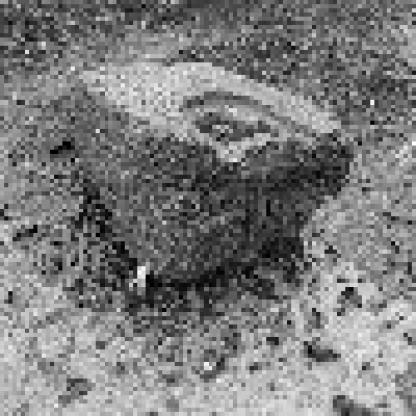brick: (74, 59, 352, 289)
